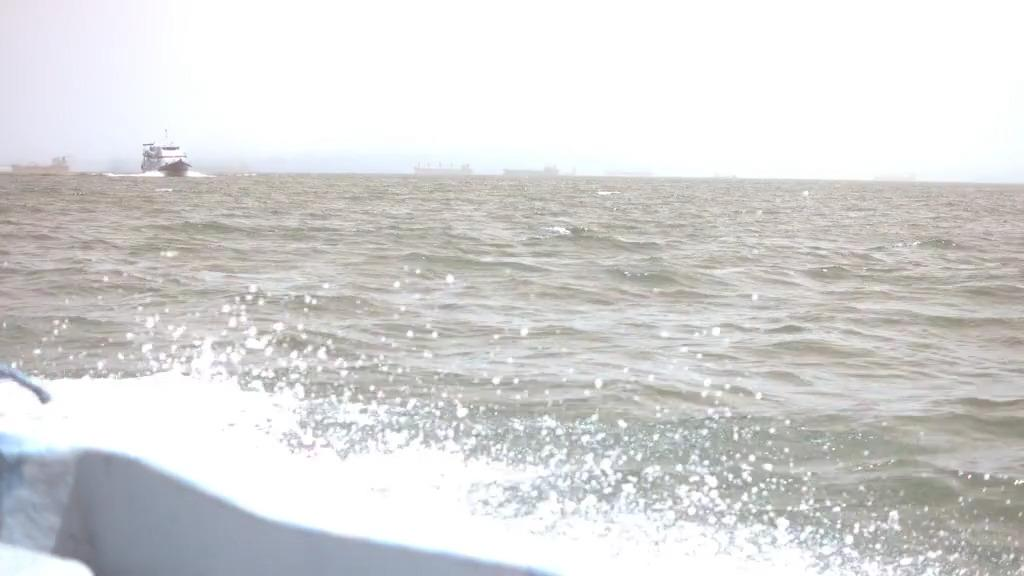PassengerShip: (138, 136, 192, 178)
